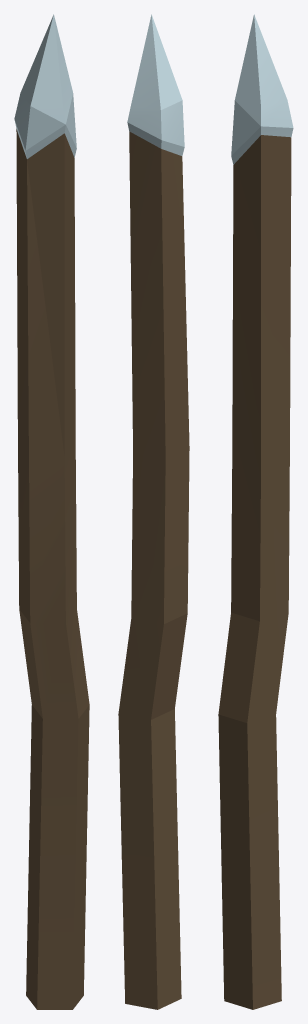
File: Pua01.glb
The picture shows the model from 3 angles, left to right: view 1: azimuth 90°, elevation 25°; view 2: azimuth 210°, elevation 25°; view 3: azimuth 270°, elevation 25°; orthographic projection.
Parts seen in each view (by area): view 1: SM_Prop_Wood_Spike_01_Snow; view 2: SM_Prop_Wood_Spike_01_Snow; view 3: SM_Prop_Wood_Spike_01_Snow.
Part boxes in pixels (x1,y1,x2,y2): SM_Prop_Wood_Spike_01_Snow: [14, 14, 89, 1009]; SM_Prop_Wood_Spike_01_Snow: [118, 14, 189, 1009]; SM_Prop_Wood_Spike_01_Snow: [218, 14, 293, 1009].
Size of the model in its own units: 0.1401 by 2.38 by 0.165.
Materials: 1 (1 with a texture image).
